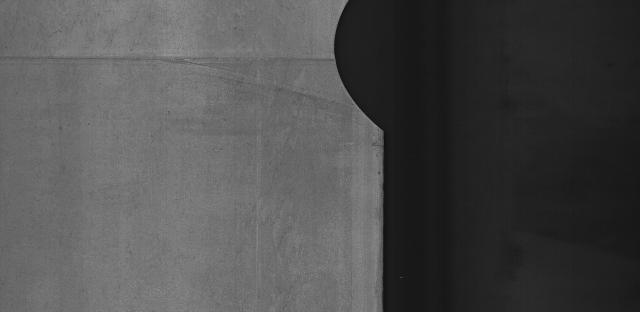welding_line: (3, 45, 350, 71)
